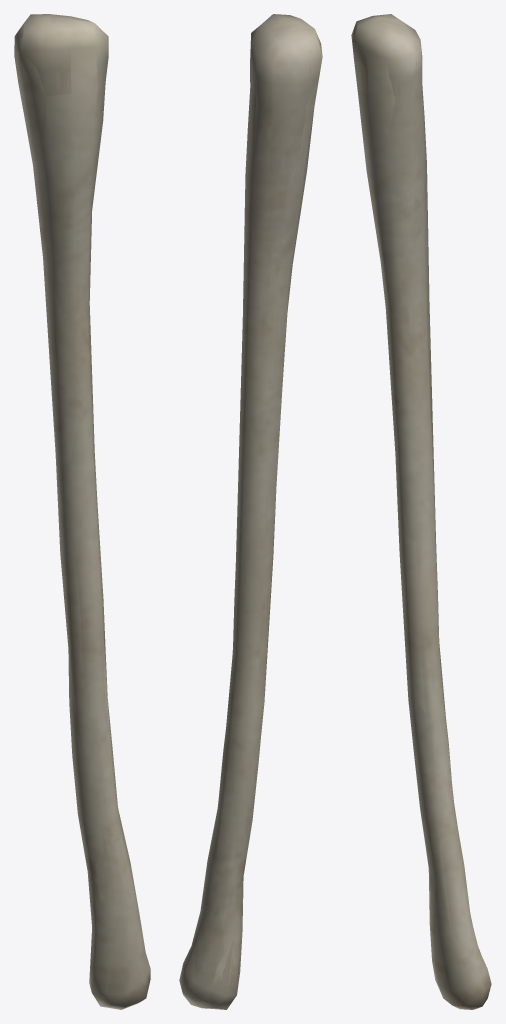
The model's file is R Radius.fbx.
3 views of the same model, side by side, from view 1: azimuth 30°, elevation 25°; view 2: azimuth 150°, elevation 25°; view 3: azimuth 330°, elevation 25° (orthographic). The views are drawn at different scales.
Visible parts, largest first — view 1: R Radius, R Radius low, R Radius high; view 2: R Radius, R Radius low, R Radius high; view 3: R Radius, R Radius low, R Radius high.
Boxes of the visible parts, x1,y1,x2,y2 form: R Radius: [14, 14, 150, 1009]; R Radius low: [14, 14, 150, 1008]; R Radius high: [17, 19, 147, 985]; R Radius: [179, 14, 322, 1009]; R Radius low: [180, 15, 318, 1009]; R Radius high: [188, 20, 312, 1008]; R Radius: [351, 14, 491, 1009]; R Radius low: [354, 14, 488, 1009]; R Radius high: [361, 31, 485, 995].
Size of the model in its own units: 1.35 by 9.73 by 0.7657.
1 material, 1 textured.
